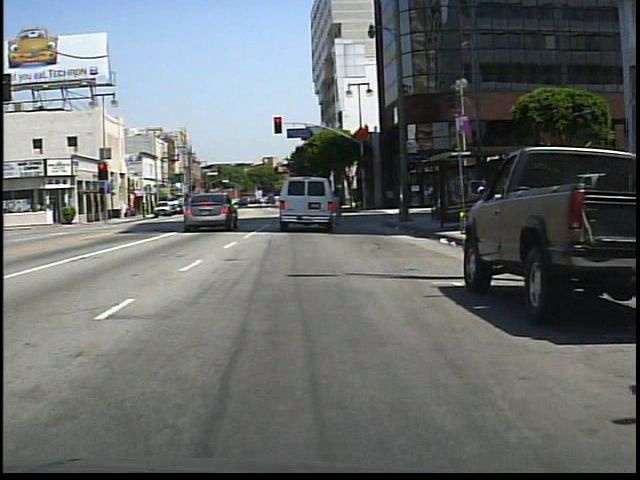person: (325, 182, 347, 225), (205, 193, 220, 218)
